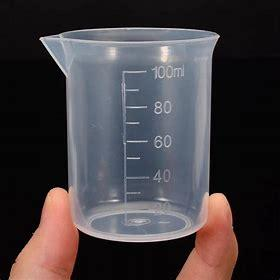Beaker: (28, 26, 230, 246)
